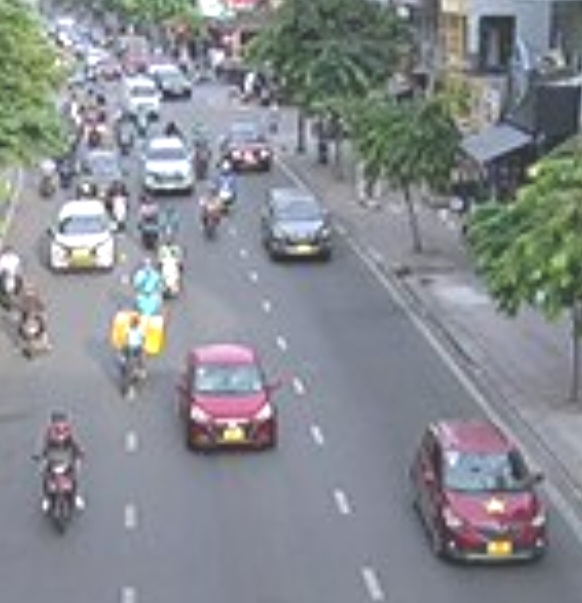car: (411, 422, 550, 564), (179, 345, 278, 450), (261, 188, 336, 264), (49, 199, 115, 272), (142, 139, 193, 194)
